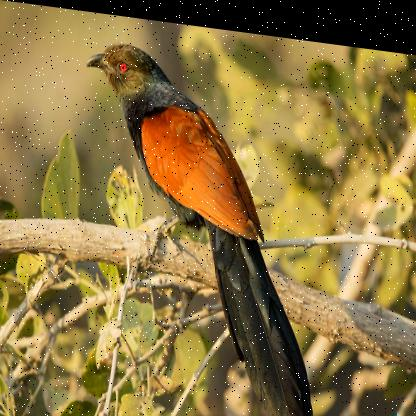Burung: (85, 36, 313, 415)
